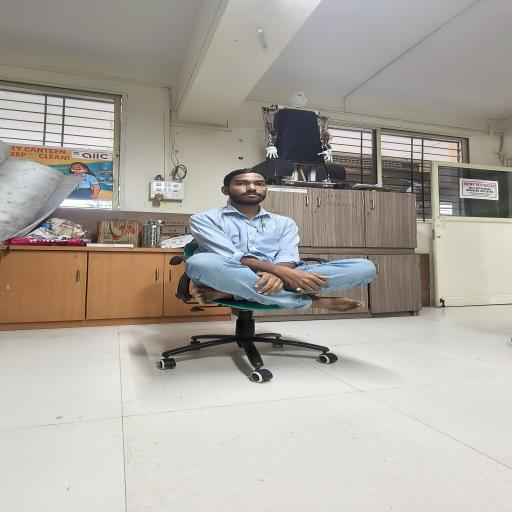survivor: (182, 168, 376, 312)
